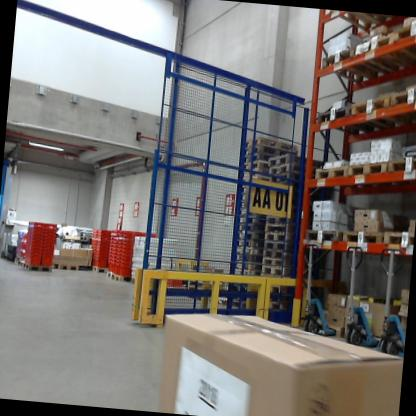pallet: (318, 42, 394, 89), (348, 89, 416, 134), (353, 30, 416, 75), (317, 98, 381, 141), (326, 10, 398, 38), (313, 160, 370, 192), (267, 153, 328, 175), (347, 158, 390, 188), (241, 144, 302, 164), (394, 16, 416, 69), (339, 224, 389, 247), (391, 76, 416, 120), (381, 220, 415, 252), (238, 152, 302, 169), (385, 151, 416, 184), (302, 224, 343, 248), (239, 136, 300, 152), (269, 159, 312, 180), (256, 265, 301, 282), (238, 167, 285, 181), (265, 214, 303, 231), (241, 159, 286, 173), (272, 171, 312, 186), (263, 221, 300, 237), (21, 260, 54, 277), (240, 173, 283, 186), (260, 299, 291, 317), (264, 230, 298, 246), (54, 259, 83, 276), (269, 280, 295, 298), (230, 283, 258, 299), (233, 223, 269, 235), (261, 240, 295, 252), (257, 256, 290, 268), (228, 297, 254, 312), (238, 186, 274, 196), (235, 238, 267, 249), (230, 264, 261, 275), (212, 293, 232, 310), (232, 232, 268, 241), (238, 216, 269, 226), (261, 249, 291, 259), (234, 252, 260, 263), (112, 272, 132, 285), (234, 245, 260, 255), (241, 204, 267, 214), (238, 212, 266, 219), (92, 265, 108, 277), (239, 193, 253, 204), (103, 270, 114, 283), (15, 258, 24, 267)
pallet_truck: (290, 240, 351, 346), (337, 243, 387, 354), (371, 245, 413, 363)
small_load_carrier: (88, 256, 108, 270), (166, 276, 183, 291), (114, 264, 132, 278), (25, 254, 42, 268), (42, 254, 54, 268), (106, 260, 117, 275)
